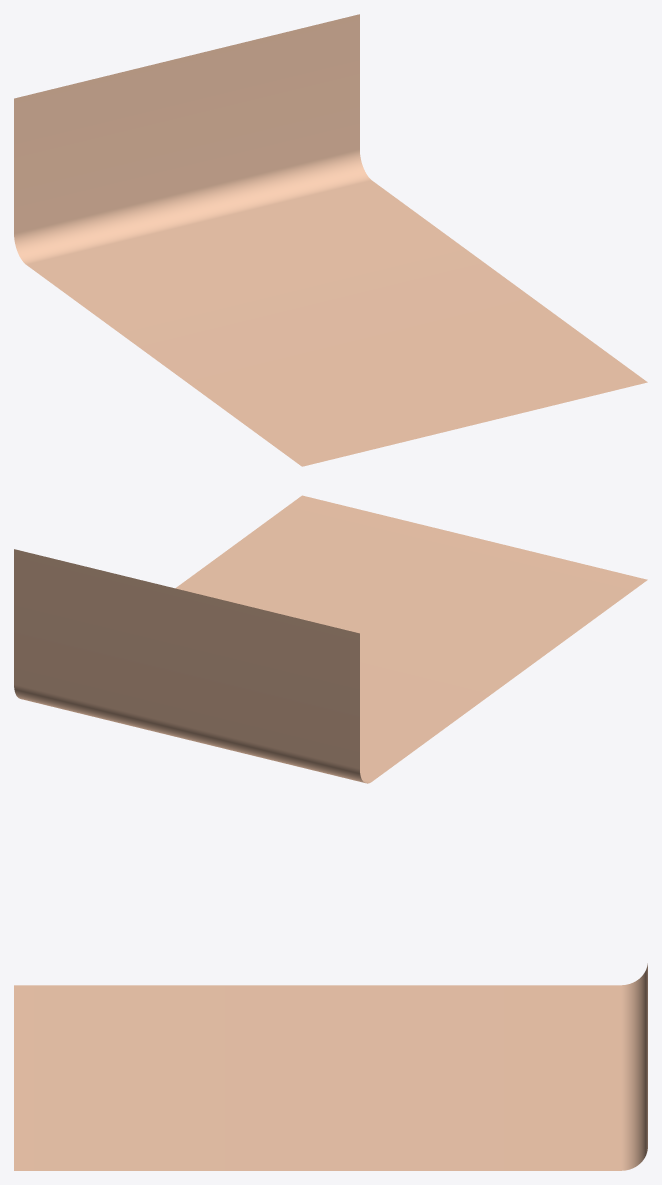
3 renders of one model, top to bottom at view 1: azimuth 30°, elevation 25°; view 2: azimuth 150°, elevation 25°; view 3: azimuth 270°, elevation 25°, orthographic. The views are drawn at different scales.
Visible parts, largest first — view 1: Plane; view 2: Plane; view 3: Plane.
Part boxes in pixels (left/top/right/bottom): Plane: left=14, top=14, right=647, bottom=466; Plane: left=14, top=495, right=647, bottom=783; Plane: left=14, top=963, right=647, bottom=1170.
Bounding box in the file's own units: 3362 × 1462 × 4852.
